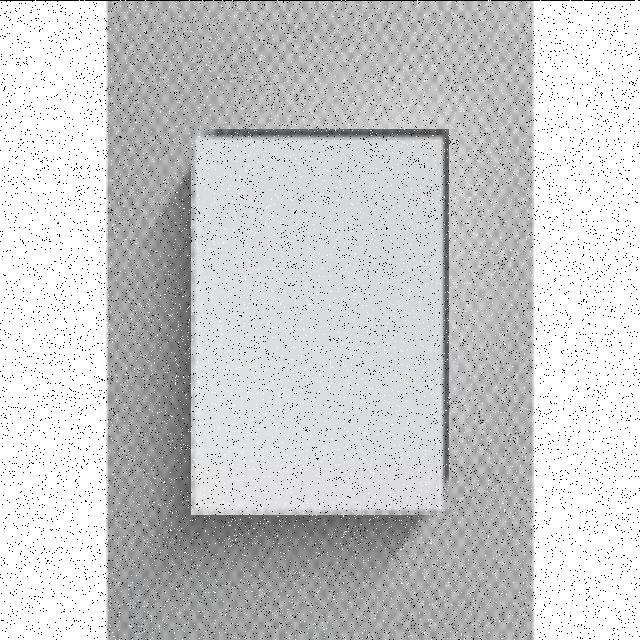normal: (191, 128, 449, 514)
